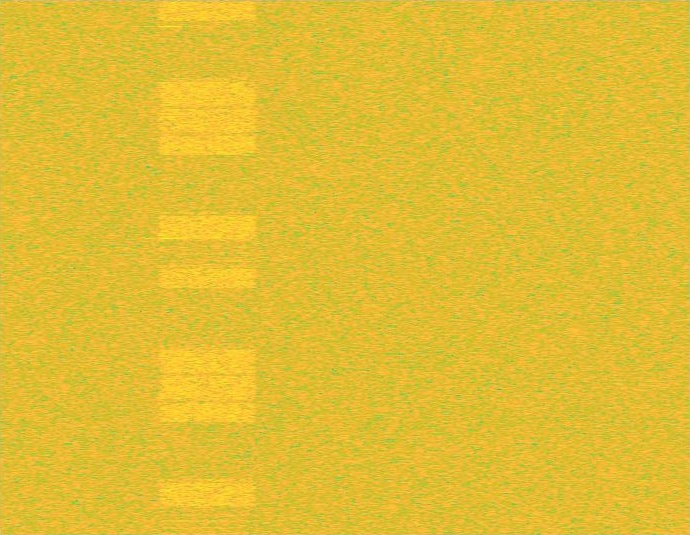LTE: (156, 0, 259, 534)
Radar: (163, 0, 177, 534)
